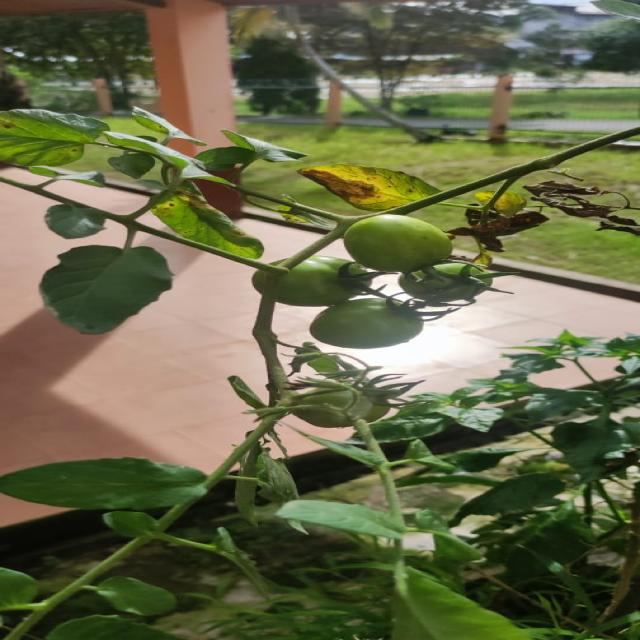unripe tomato: (342, 213, 454, 272), (250, 255, 375, 306), (307, 297, 424, 349), (286, 379, 384, 428), (398, 260, 492, 302)
